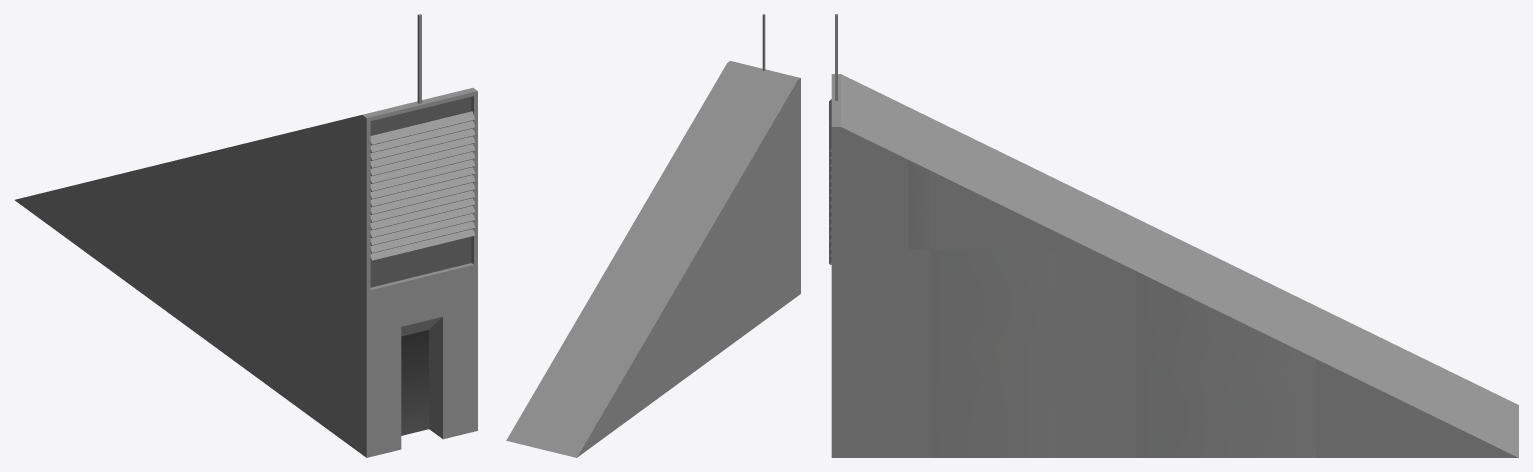
File: IceStaionEntrance.FBX
3 renders of one model, left to right at view 1: azimuth 30°, elevation 25°; view 2: azimuth 150°, elevation 25°; view 3: azimuth 270°, elevation 25°, orthographic. The views are drawn at different scales.
Visible parts, largest first — view 1: IceStation_Entrance; view 2: IceStation_Entrance; view 3: IceStation_Entrance.
Boxes of the visible parts, x1,y1,x2,y2 form: IceStation_Entrance: (14, 14, 477, 457); IceStation_Entrance: (506, 14, 800, 457); IceStation_Entrance: (829, 14, 1518, 457).
Bounding box in the file's own units: 397 × 1459 × 2188.
